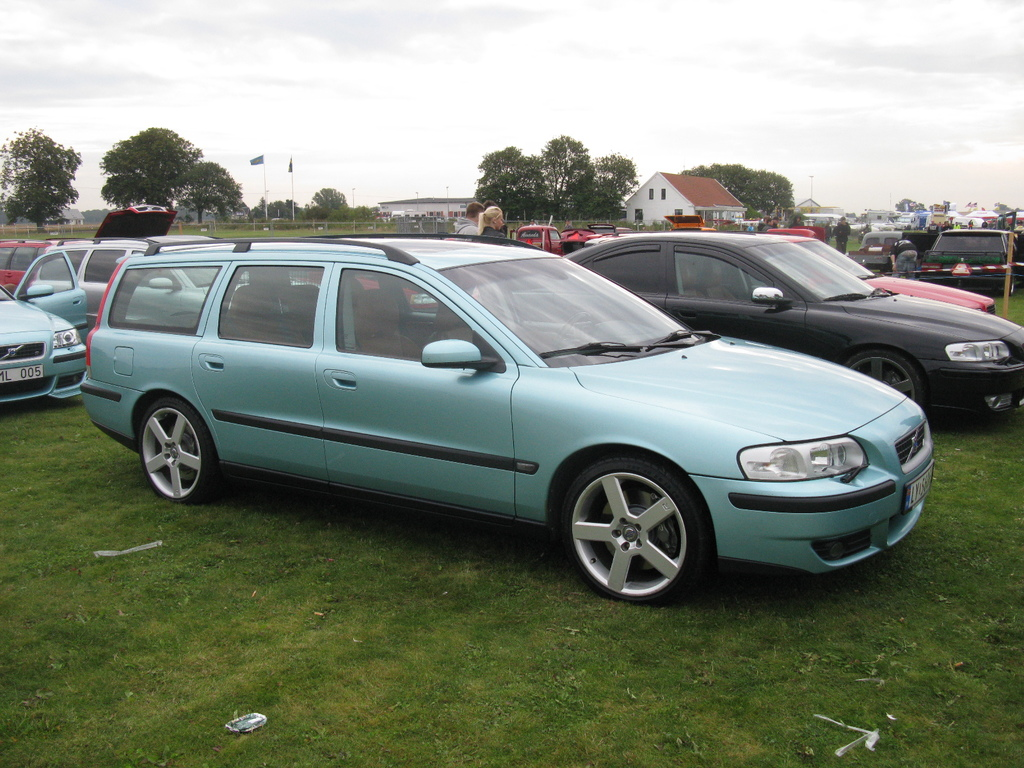Car: (0, 202, 1023, 595)
